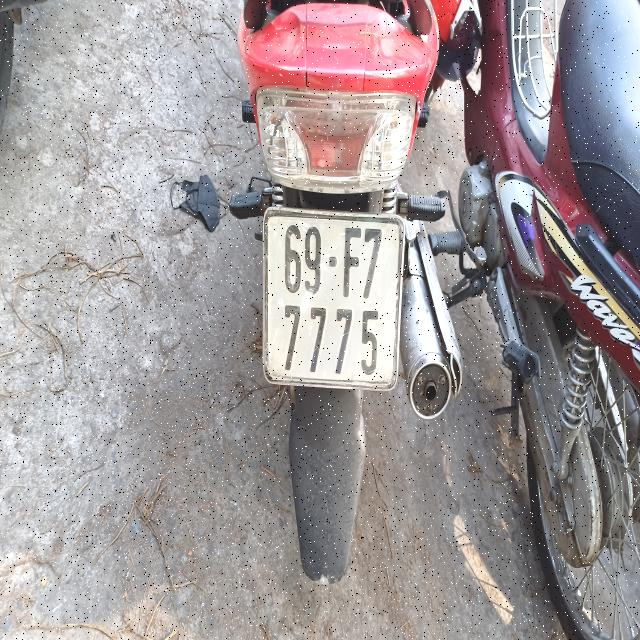5: (362, 308, 379, 378)
6: (285, 225, 301, 293)
7: (362, 226, 382, 299), (309, 305, 327, 375), (282, 304, 300, 371), (336, 305, 353, 373)
9: (306, 227, 321, 295)
F: (344, 227, 361, 298)
